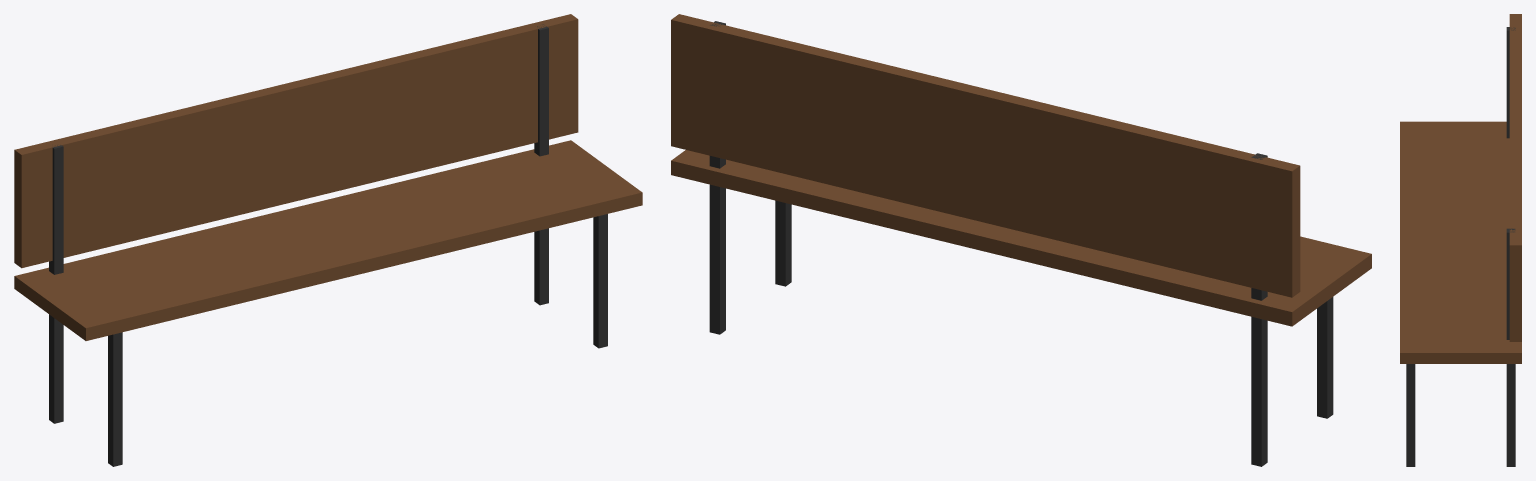
The model's file is prop_bench.glb.
3 renders of one model, left to right at view 1: azimuth 30°, elevation 25°; view 2: azimuth 150°, elevation 25°; view 3: azimuth 270°, elevation 25°, orthographic. The views are drawn at different scales.
Visible parts, largest first — view 1: prop_bench; view 2: prop_bench; view 3: prop_bench.
Boxes of the visible parts, bbox=[...] form: prop_bench: bbox=[14, 14, 642, 466]; prop_bench: bbox=[671, 14, 1371, 466]; prop_bench: bbox=[1400, 14, 1521, 466].
Size of what is drawn, in the model's own units: 1.8 by 0.85 by 0.4.
